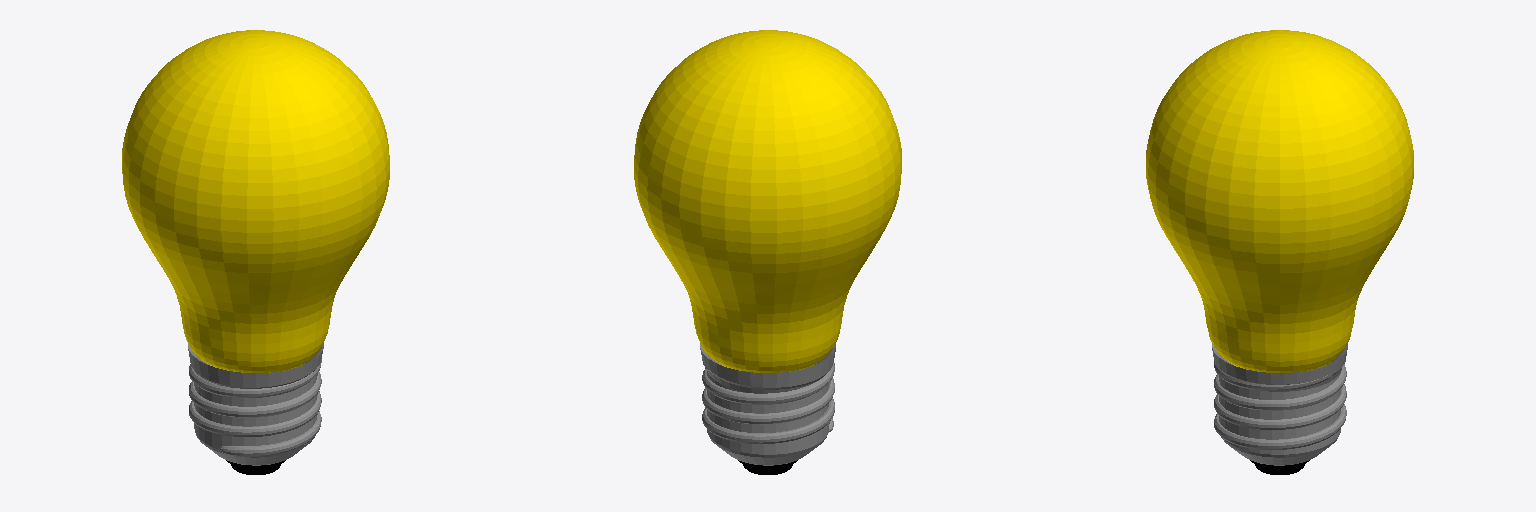
3 views of the same model, side by side, from view 1: azimuth 30°, elevation 25°; view 2: azimuth 150°, elevation 25°; view 3: azimuth 270°, elevation 25° (orthographic).
Visible parts, largest first — view 1: Bulb_Main, Bottum; view 2: Bulb_Main, Bottum; view 3: Bulb_Main, Bottum.
Boxes of the visible parts, x1=… form: Bulb_Main: x1=122, y1=30, x2=389, y2=372; Bottum: x1=188, y1=344, x2=323, y2=474; Bulb_Main: x1=634, y1=30, x2=901, y2=372; Bottum: x1=700, y1=344, x2=835, y2=474; Bulb_Main: x1=1146, y1=30, x2=1413, y2=372; Bottum: x1=1212, y1=344, x2=1347, y2=474.
Size of the model in its own units: 0.7002 by 1.23 by 0.7002.
Materials: 7 (3 with a texture image).